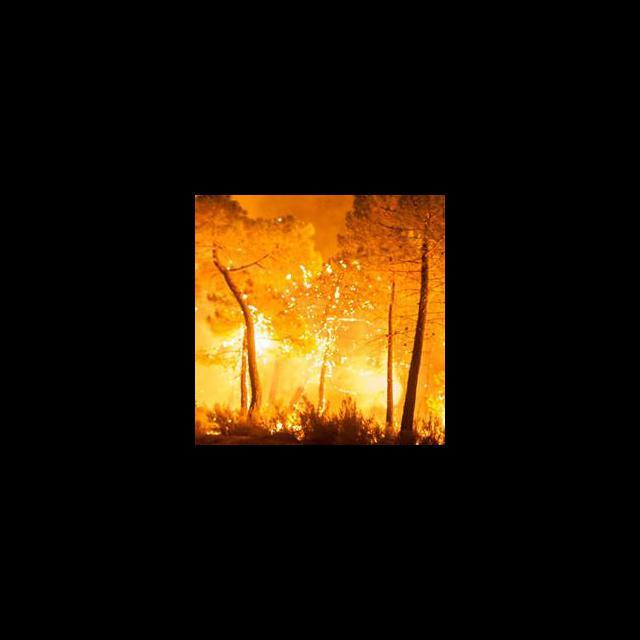Fire: (196, 202, 444, 444)
